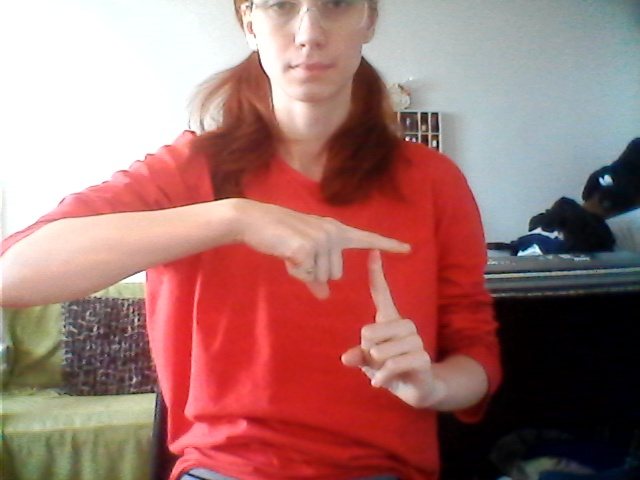t: (270, 198, 441, 412)
